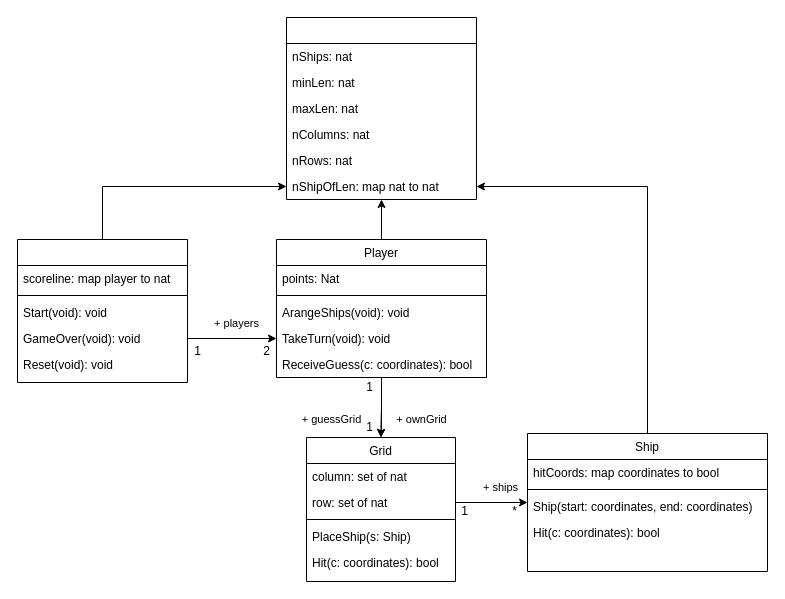
Image size: 785x599. Some labels were removed from this diagram. Each missing label, with the box of its shape:
GameController: (16, 238, 188, 382)
GLOBAL: (286, 16, 476, 200)
